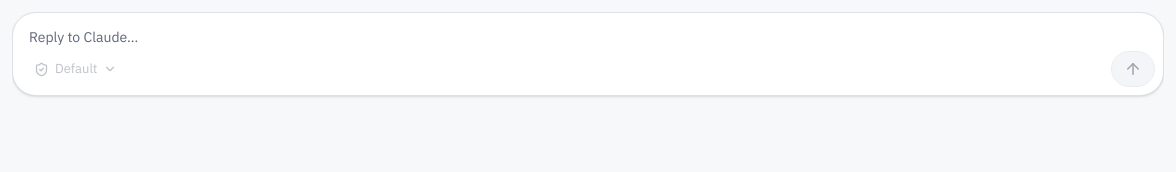
it: T042 liveness-unknown keeps the text and offers only the reason
Type "Fixture reply" into the text box named "Reply to session" at coordinates (588, 32), box x1=13 y1=13 x2=1163 y2=51
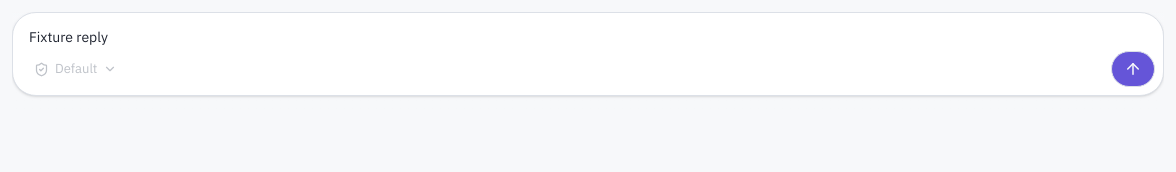
Click the button named "Send" at coordinates (1133, 69), box x1=1111 y1=51 x2=1155 y2=87
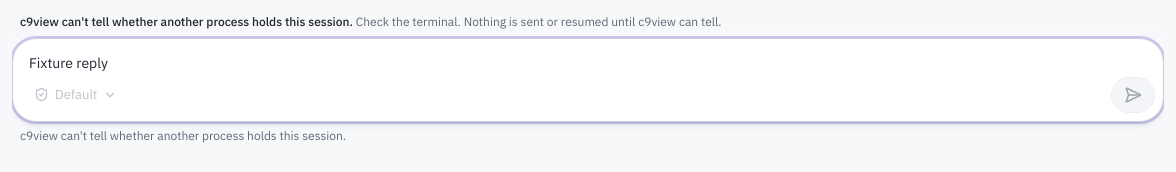
Expected: the button named "Send to the terminal session" is disabled, x1=1111 y1=76 x2=1155 y2=112
Expected: the text "c9view can't tell whether another process holds this session." is shown, x1=20 y1=14 x2=353 y2=29
